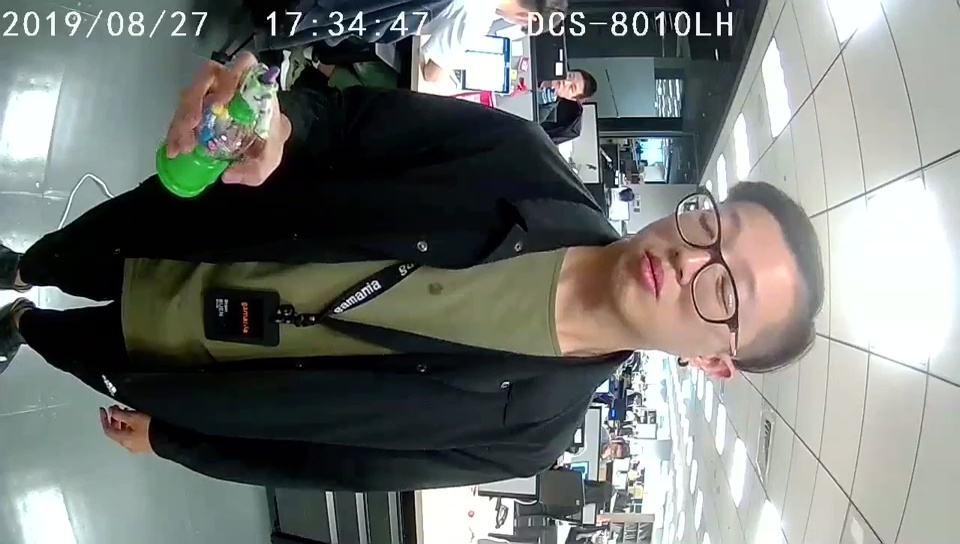buzz: (153, 62, 282, 199)
